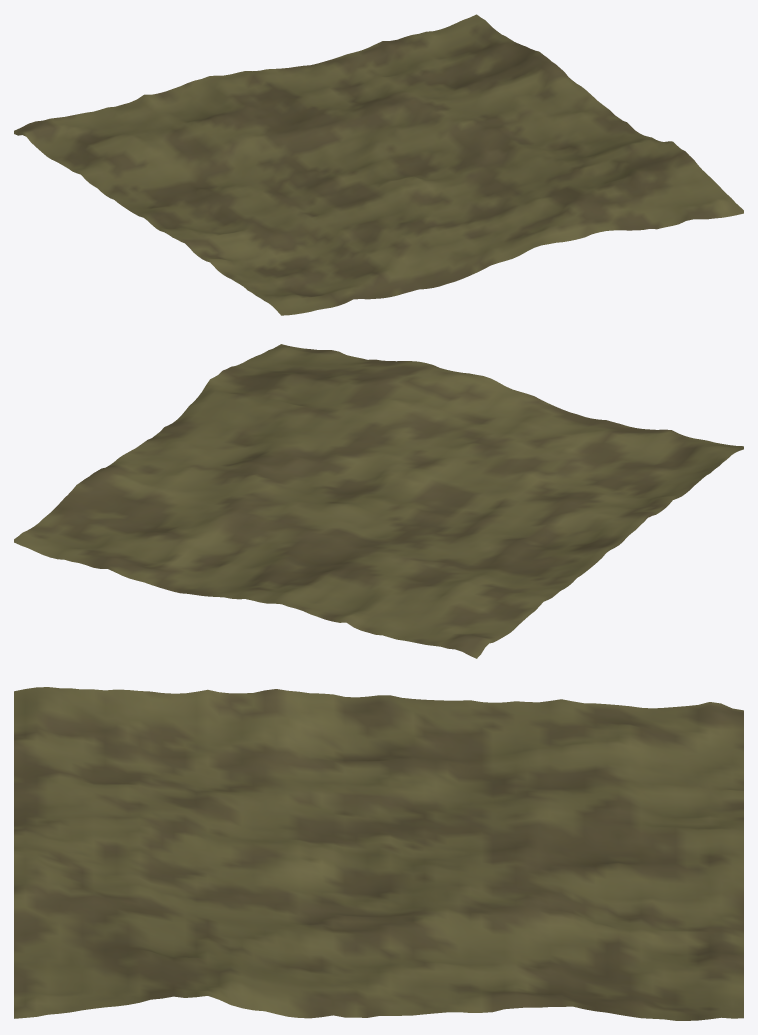
Rendered from land_f_07_08.glb.
3 renders of one model, top to bottom at view 1: azimuth 30°, elevation 25°; view 2: azimuth 150°, elevation 25°; view 3: azimuth 270°, elevation 25°, orthographic. The views are drawn at different scales.
Parts seen in each view (by area): view 1: land_f_07_08; view 2: land_f_07_08; view 3: land_f_07_08.
Part boxes in pixels (x1,y1,x2,y2): land_f_07_08: (14, 14, 743, 315); land_f_07_08: (14, 344, 743, 658); land_f_07_08: (14, 687, 743, 1020).
Size of the model in its own units: 3840 by 263 by 3840.
